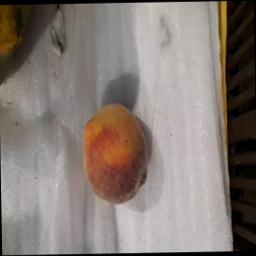Peach Unripe: (74, 96, 160, 214)
